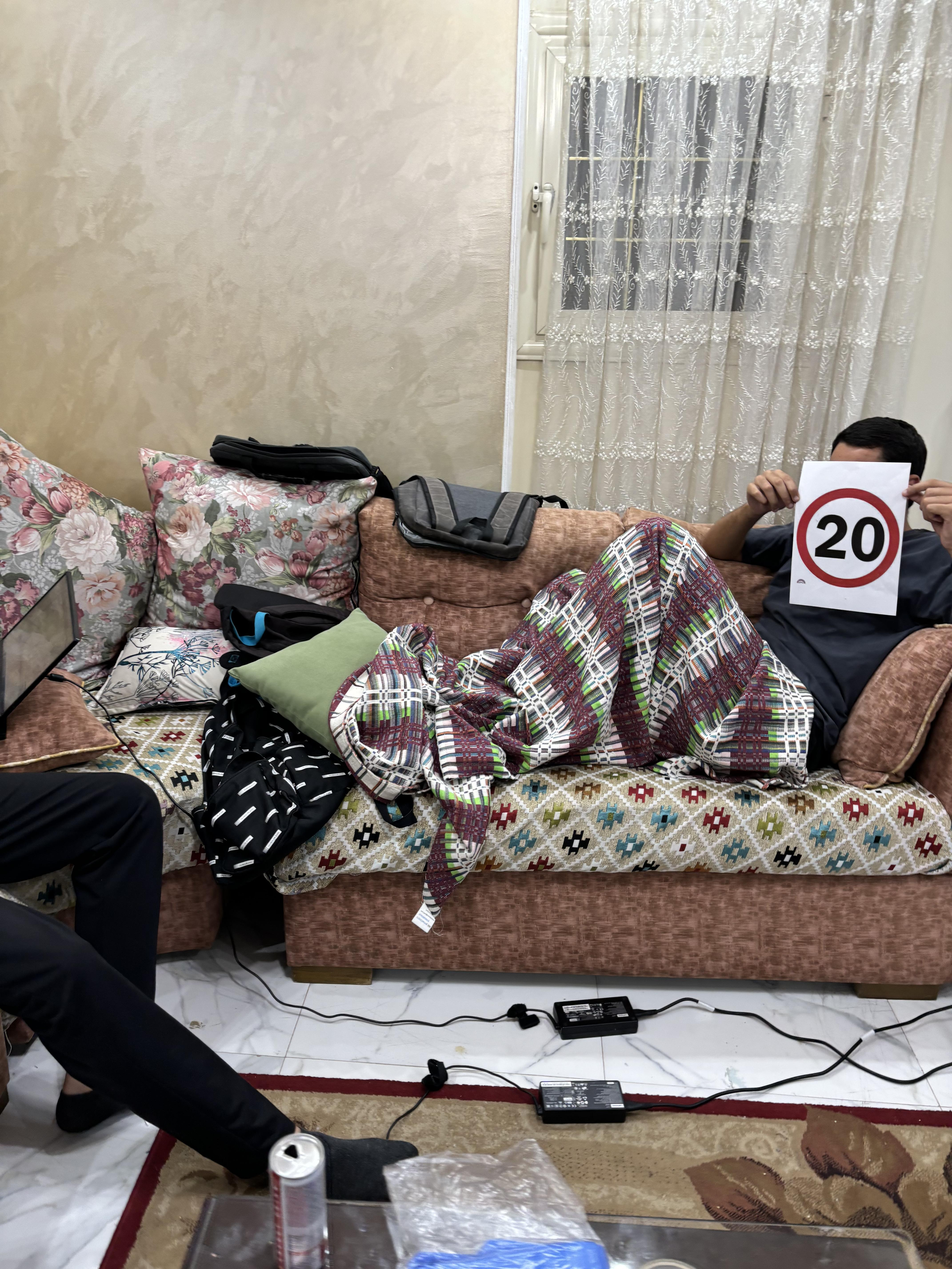20-Speed: (795, 479, 904, 593)
